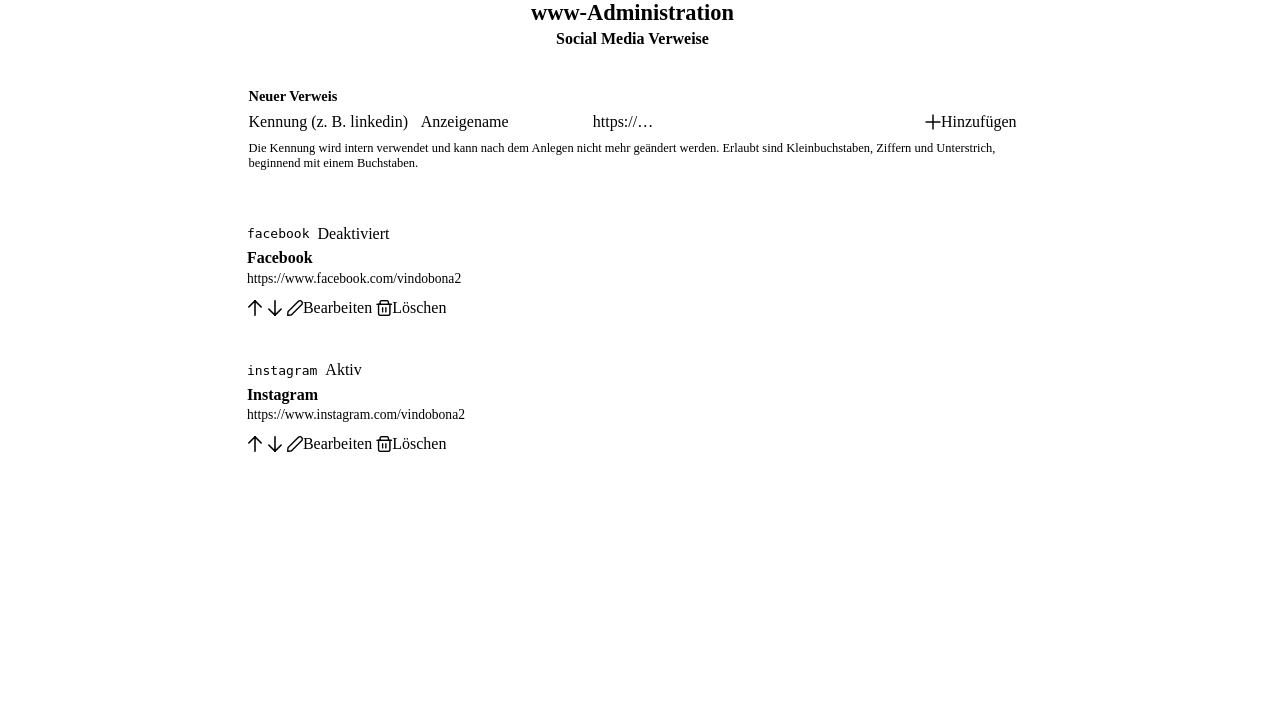
Scenario: SocialLinksAdminView › required fields, refreshed list, failures, limits and row names › shows the list as the API returns it after saving an edit
Click the button "Bearbeiten" below "https://www.facebook.com/vindobona2". click: (330, 308)
box: [287,299,372,317]
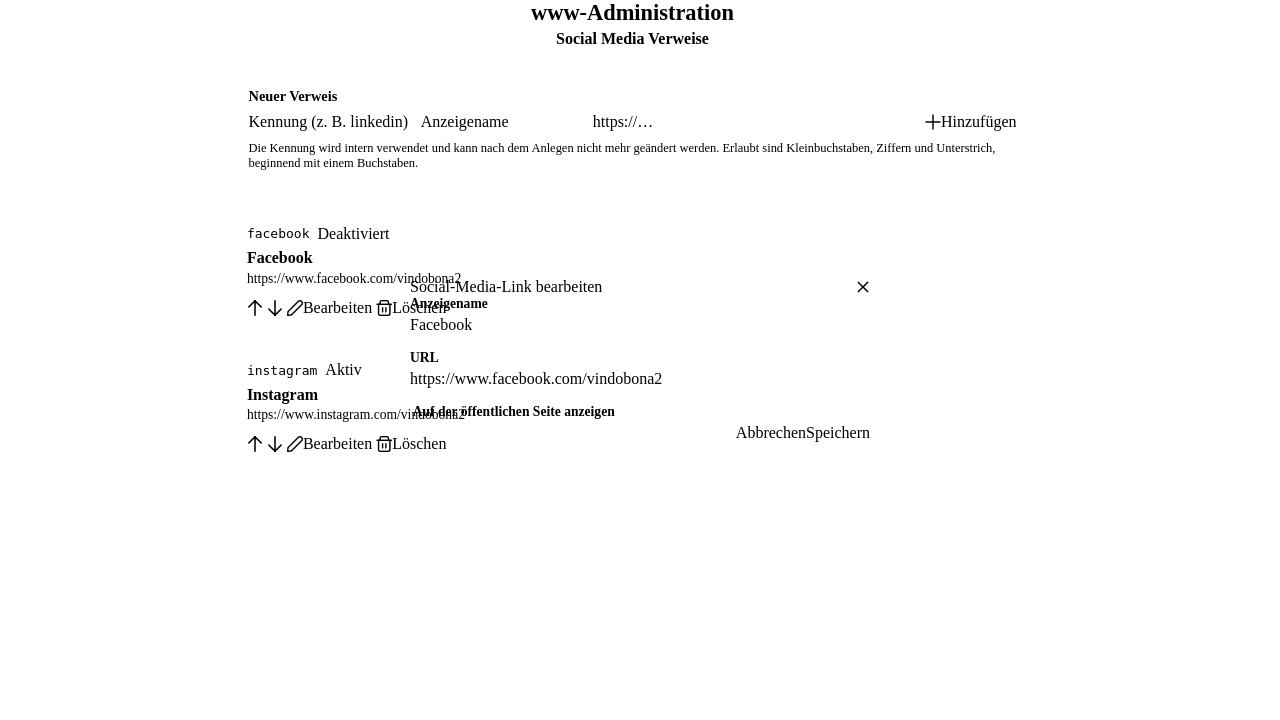
Click the button "Speichern". click: (838, 433)
box: [806,424,870,442]
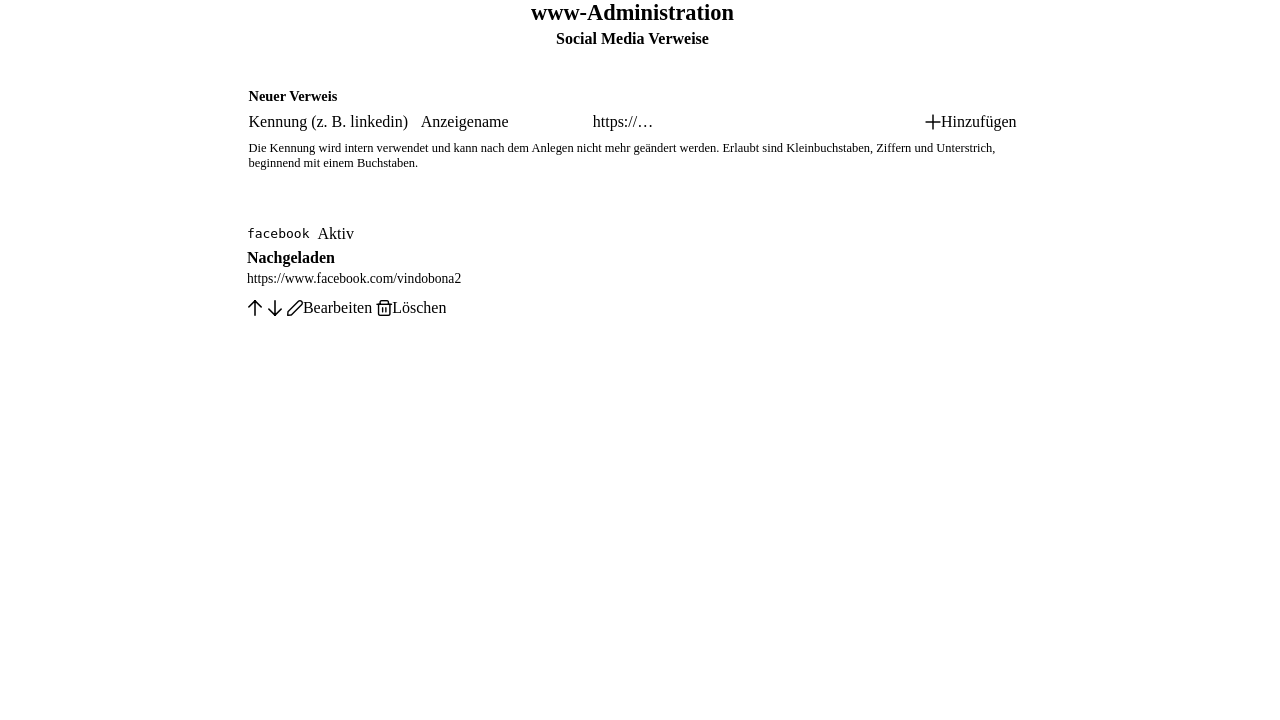
Now the text "Nachgeladen" is shown, box [247,249,335,266]
Now the text "instagram" is gone
